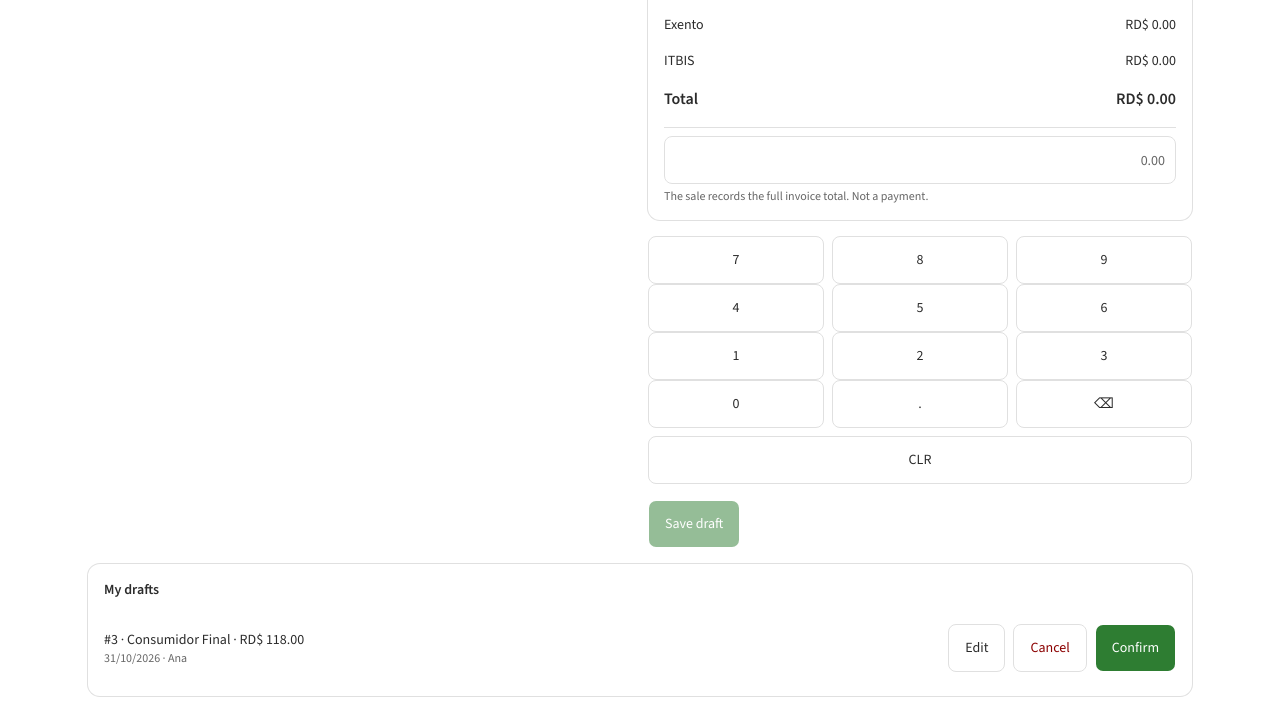
Scenario: POS confirm control (R-V14 5c slice) › falls back to the generic [CODE] banner for a non-cataloged code
(page scrolled)
Click the button with aria-label "Confirm draft 3" at (1135, 648), box [1095,624,1176,672]
(page scrolled)
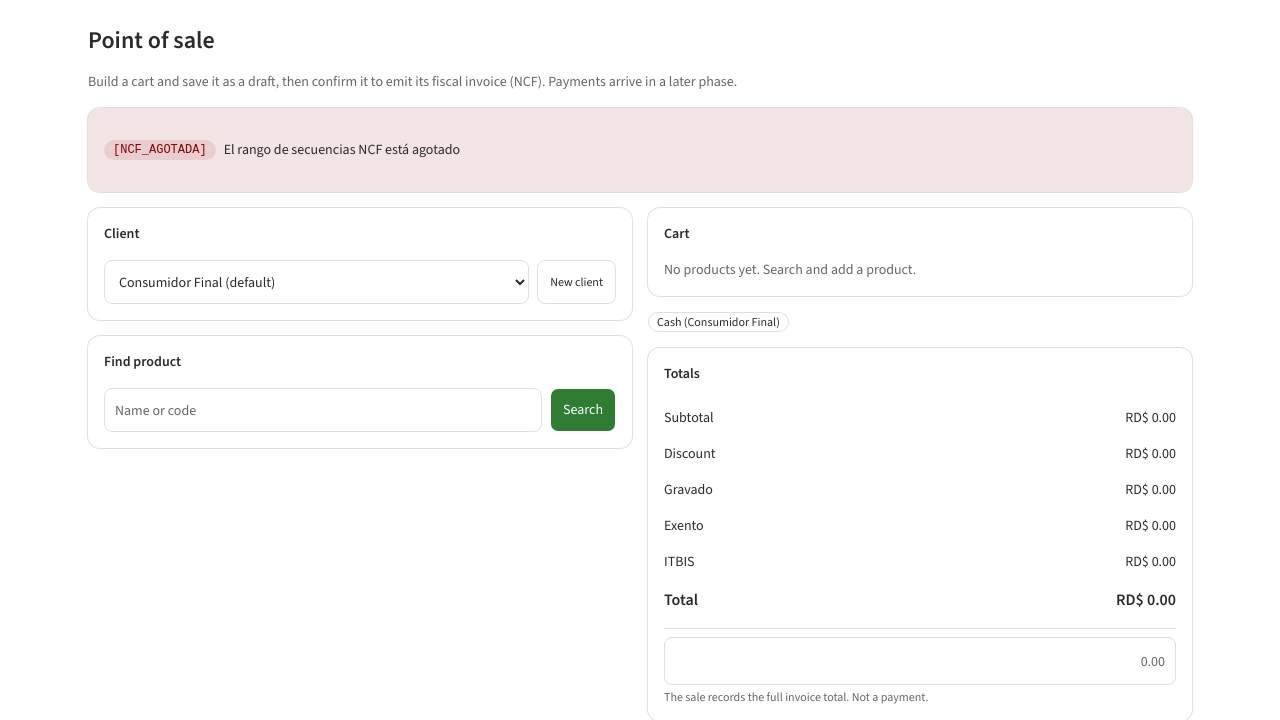
expect the text "[NCF_AGOTADA]" is shown: met, box [104,140,216,160]
